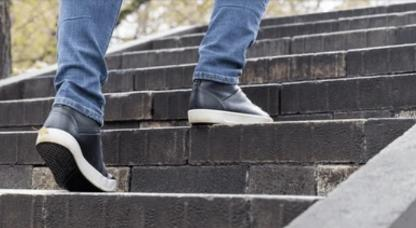stair: (45, 5, 401, 225)
